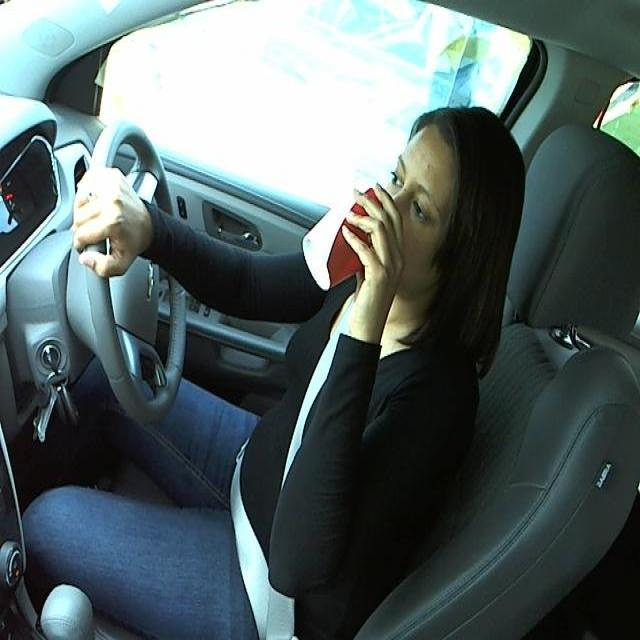drinking: (298, 178, 399, 294)
